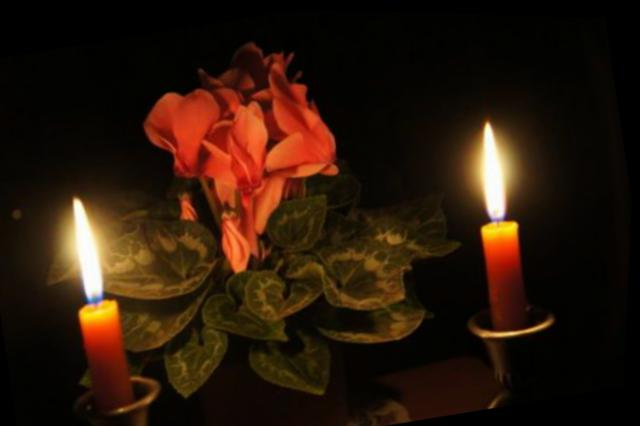fire: (70, 189, 114, 299), (471, 112, 516, 218)
